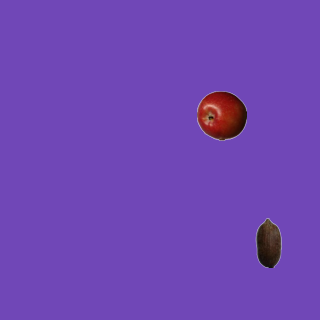Apple Braeburn: (196, 90, 246, 140)
Nut Pecan: (243, 217, 293, 267)
